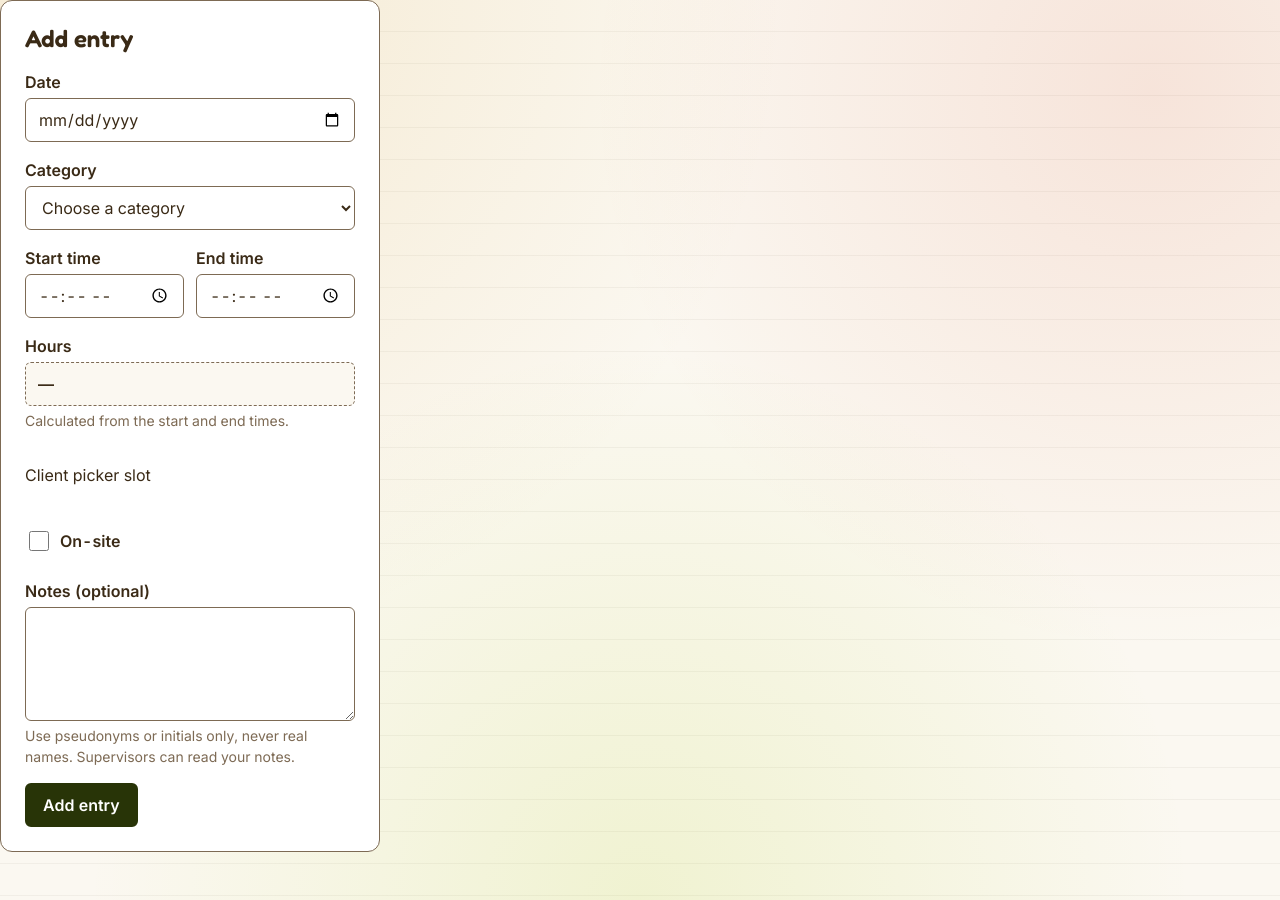
Test: calculated hours › are read-only and update live as the times change
expect the text named "Hours" reads "—": met, box [38,374,54,394]
In the time field labelled "Start time": (104, 296) [25,274,184,318], type "0900"
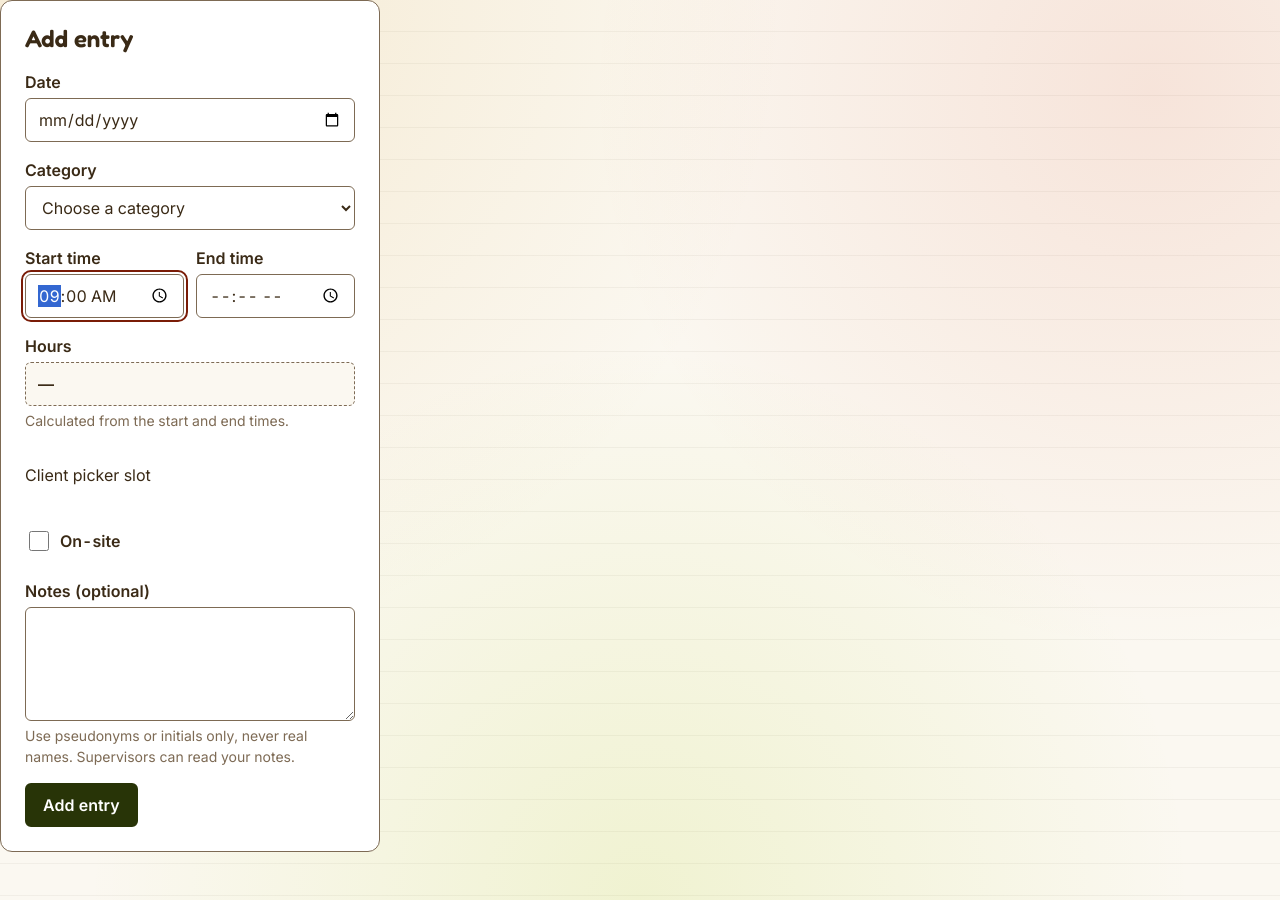
In the time field labelled "End time": (276, 296) [196,274,355,318], type "1015"
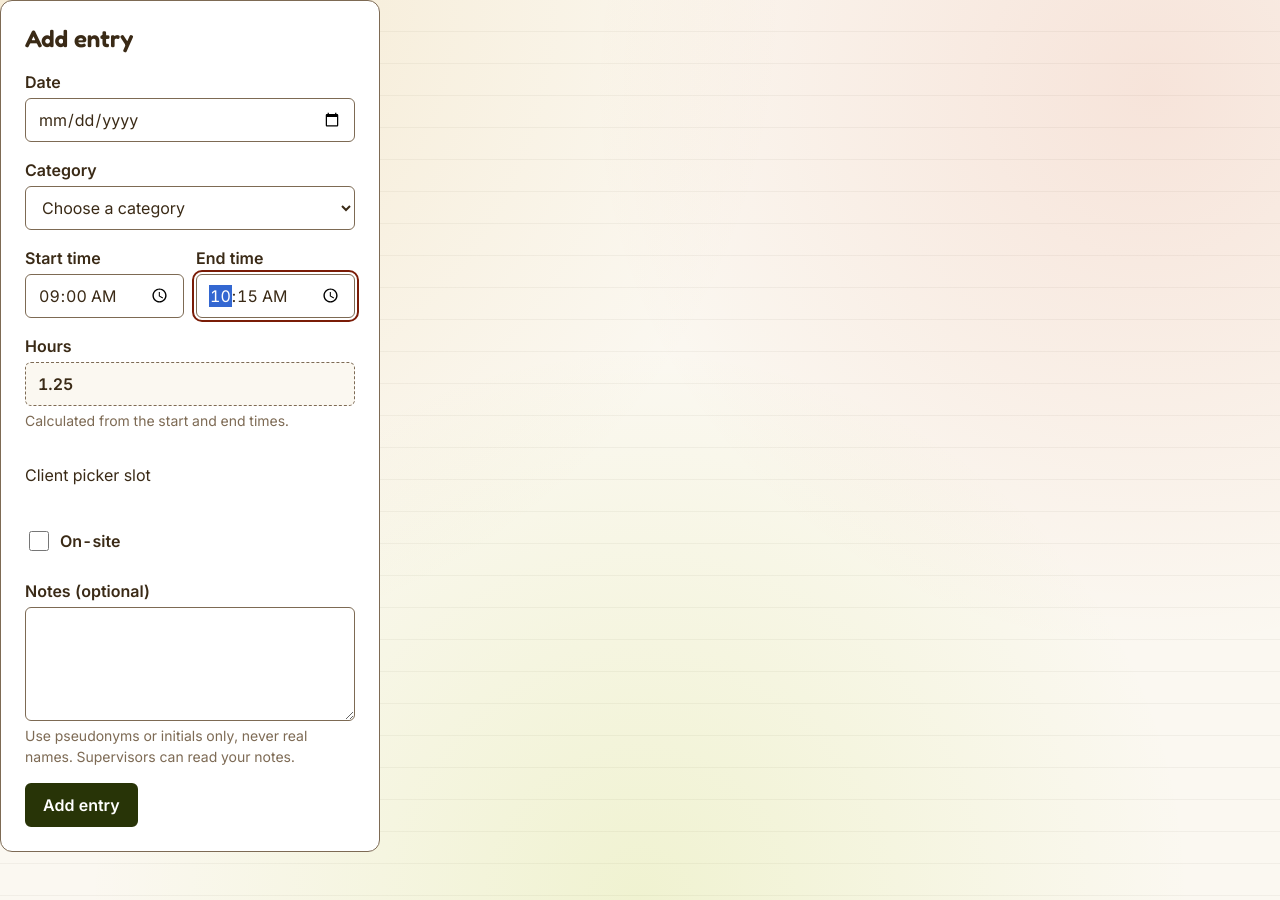
expect the text named "Hours" reads "1.25": met, box [38,374,73,394]
Replace the text in the time field labelled "End time" with "1130": (276, 296) [196,274,355,318]
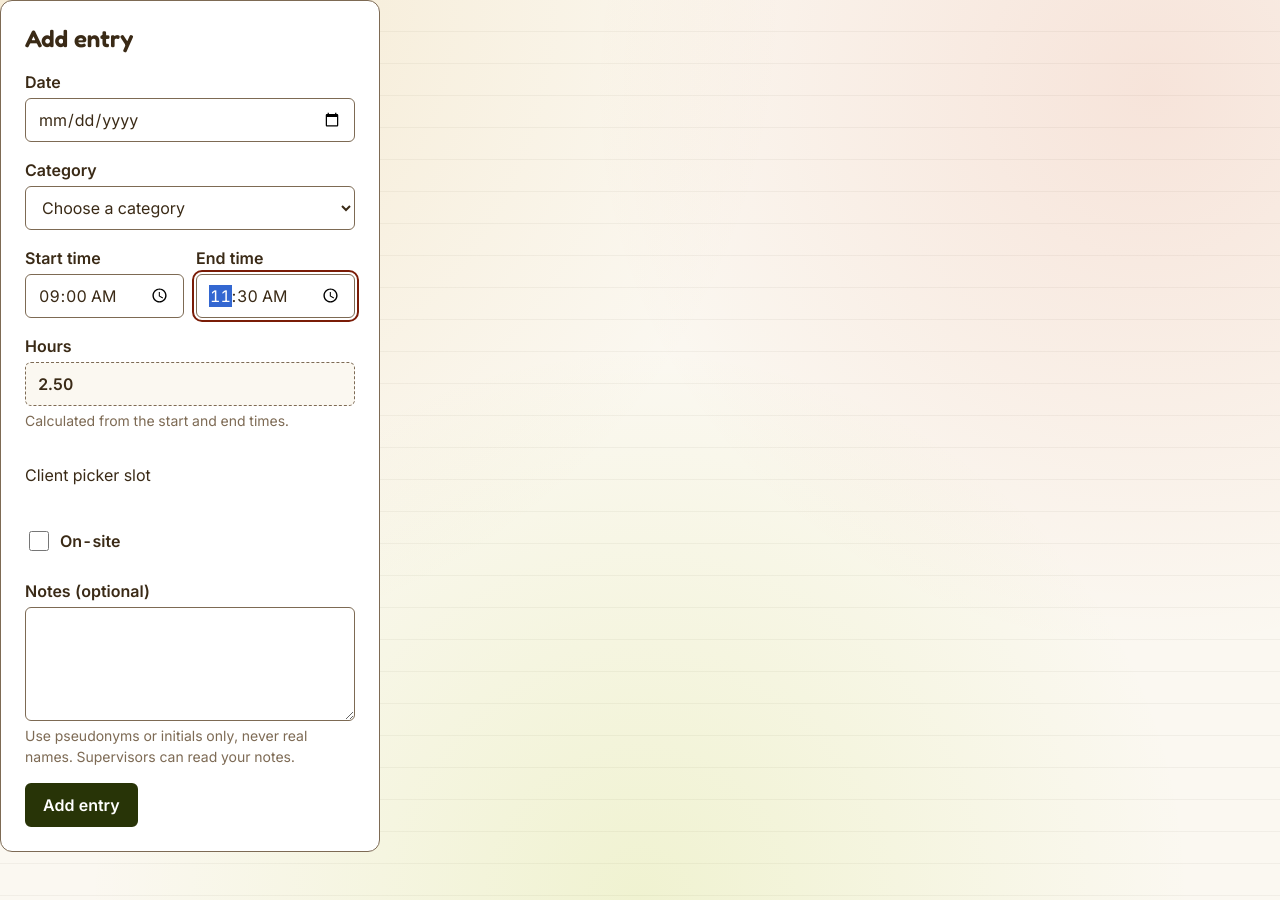
expect the text named "Hours" reads "2.50": met, box [38,374,73,394]
